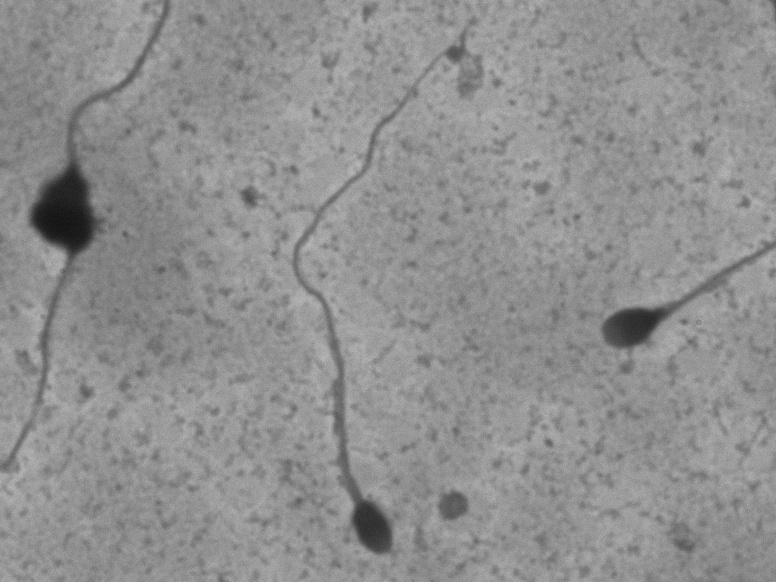Abnormal: (564, 209, 743, 401)
Normal: (277, 30, 476, 567)
